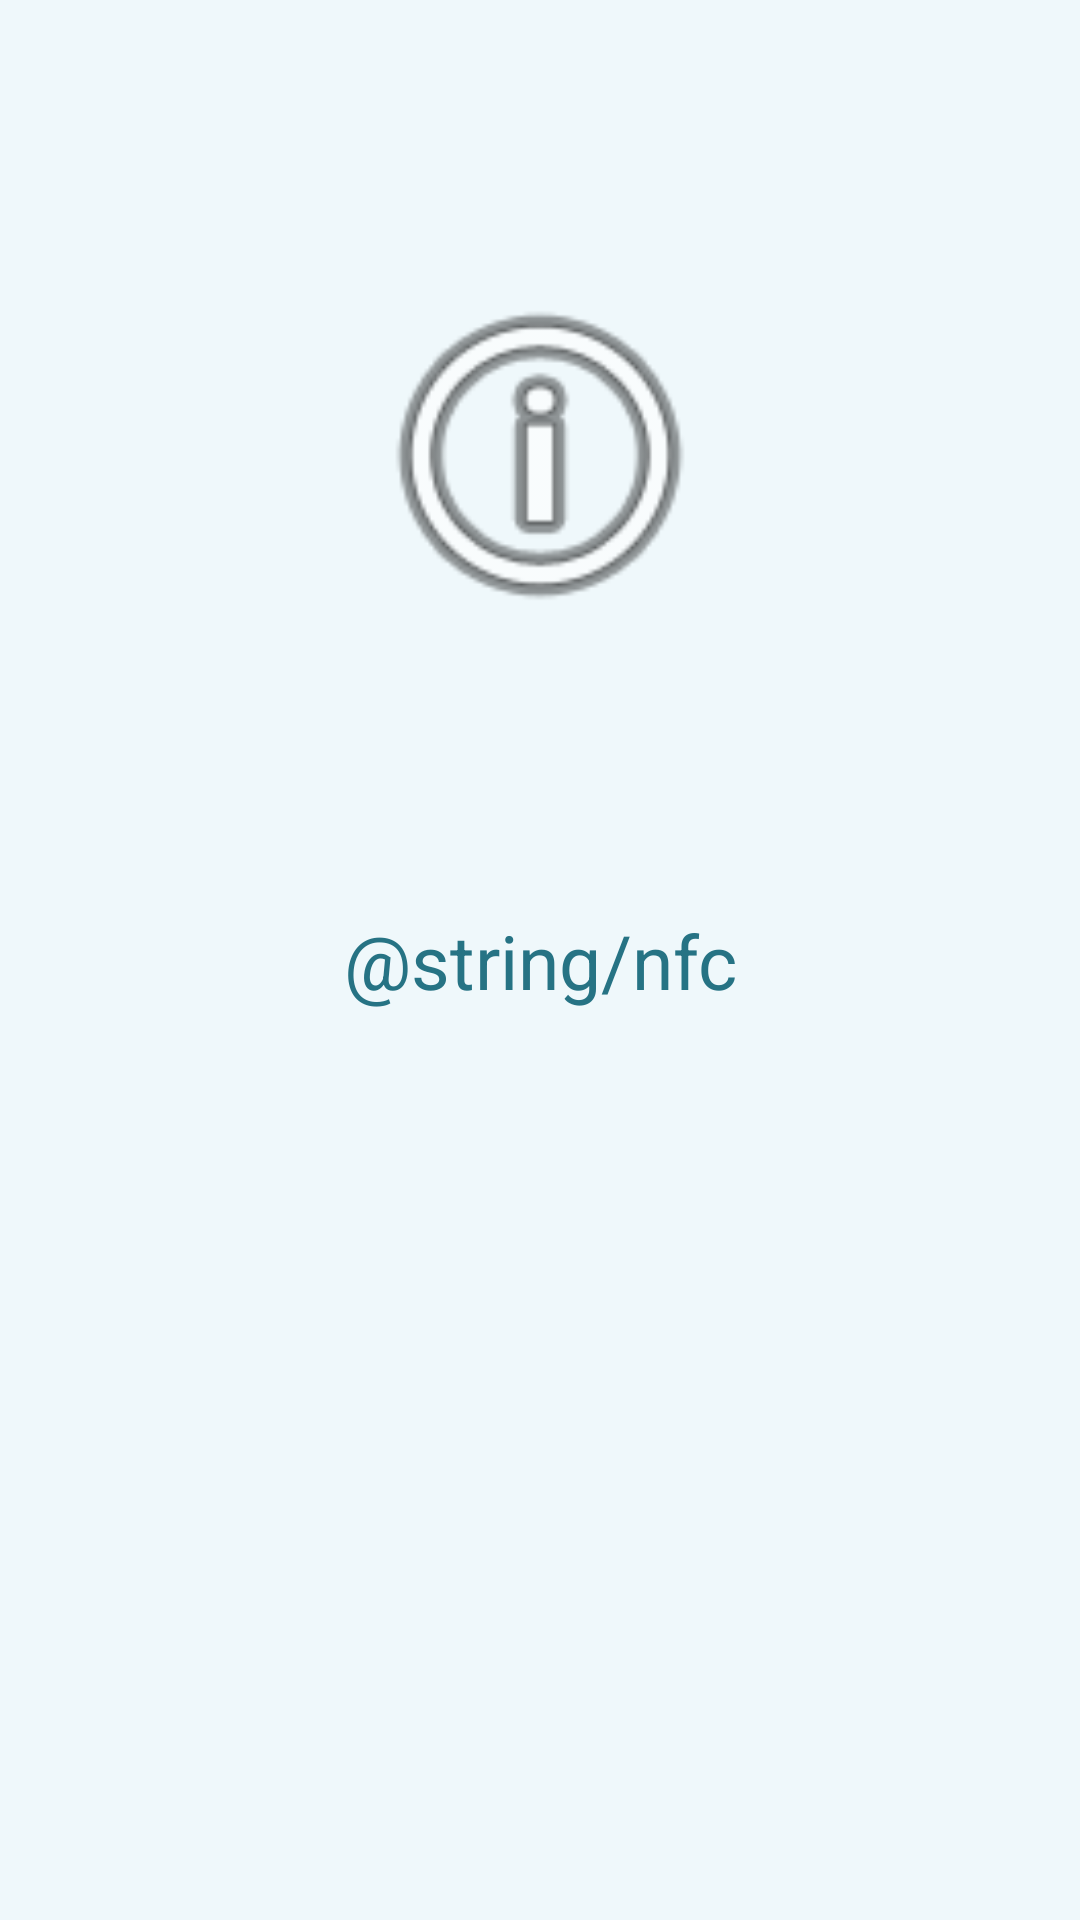

Named icons in this screenshot (1080w x 1920h) and their centers, (x=x, y=y):
info details: (x=540, y=456)
